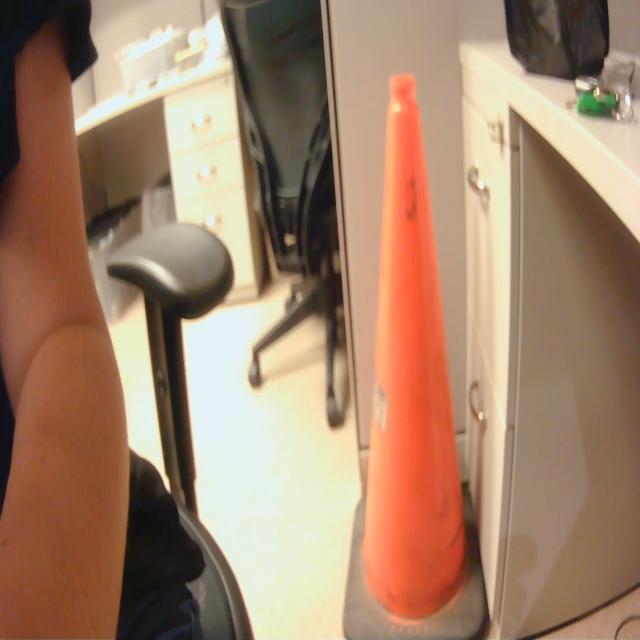traffic cone: (335, 67, 502, 640)
